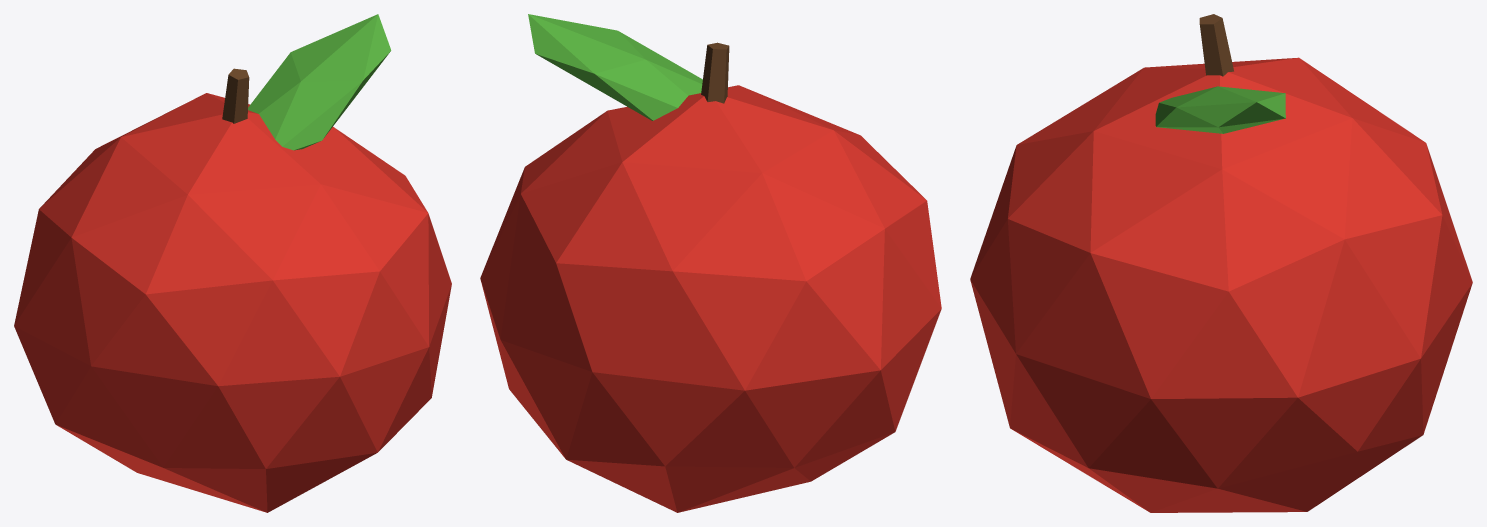
Rendered from prop_apple_v01.glb.
3 views of the same model, side by side, from view 1: azimuth 30°, elevation 25°; view 2: azimuth 150°, elevation 25°; view 3: azimuth 270°, elevation 25° (orthographic). The views are drawn at different scales.
Visible parts, largest first — view 1: prop_apple_v01; view 2: prop_apple_v01; view 3: prop_apple_v01.
Part boxes in pixels (x1,y1,x2,y2): prop_apple_v01: (14, 14, 451, 512); prop_apple_v01: (480, 14, 941, 512); prop_apple_v01: (970, 14, 1472, 512).
Size of the model in its own units: 0.3142 by 0.3383 by 0.3145.
